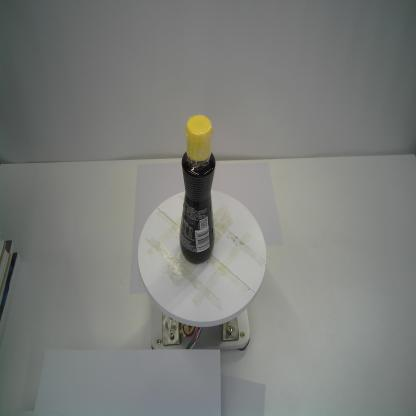Seasoner: (176, 113, 219, 266)
